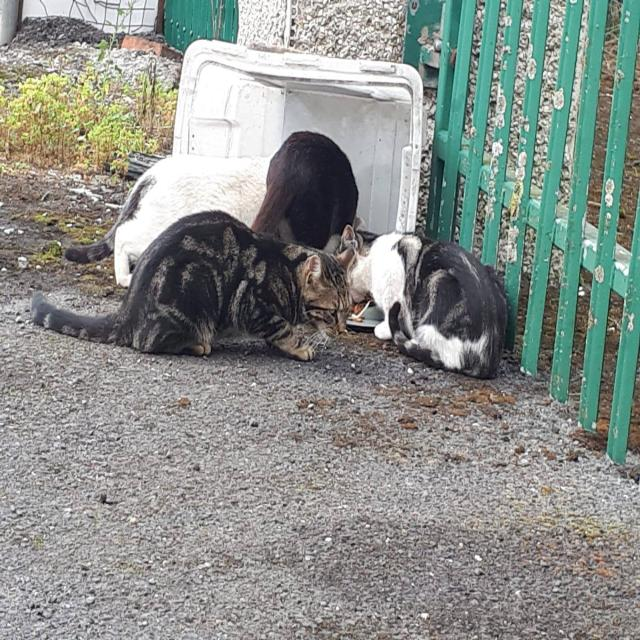cat: (31, 212, 350, 361), (65, 155, 270, 286), (339, 222, 508, 378), (252, 132, 359, 252)
